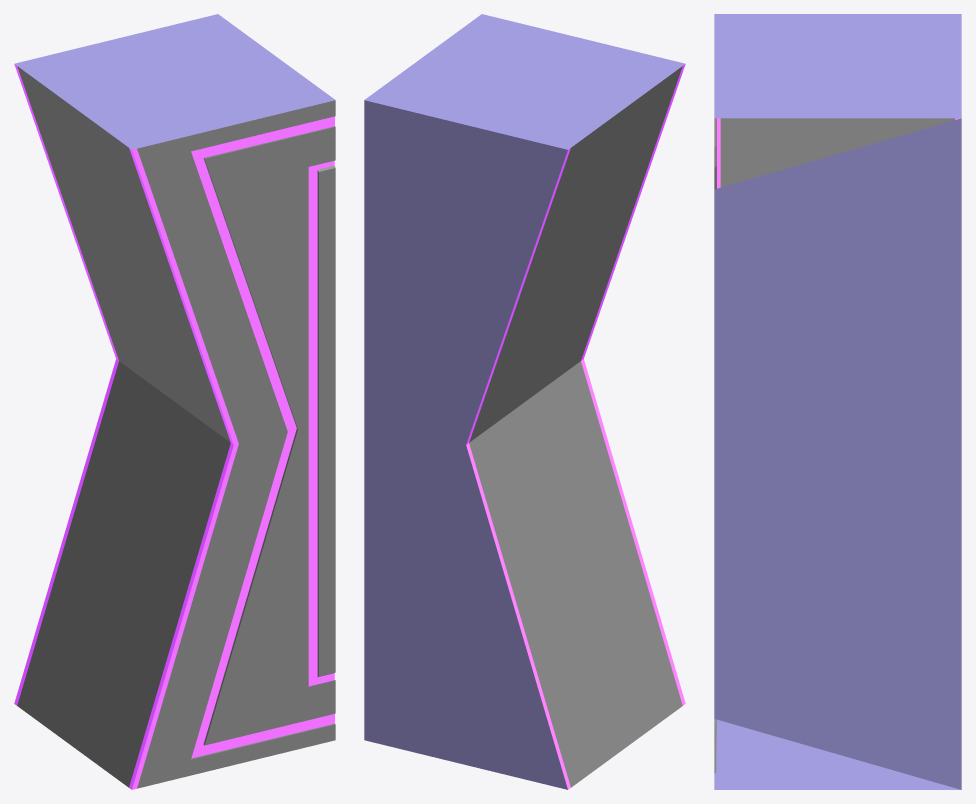
File: TunnelFlatEnd.FBX
3 views of the same model, side by side, from view 1: azimuth 30°, elevation 25°; view 2: azimuth 150°, elevation 25°; view 3: azimuth 270°, elevation 25° (orthographic). The views are drawn at different scales.
Visible parts, largest first — view 1: TunnelFlatEnd; view 2: TunnelFlatEnd; view 3: TunnelFlatEnd.
Boxes of the visible parts, bbox=[...] form: TunnelFlatEnd: bbox=[14, 14, 335, 789]; TunnelFlatEnd: bbox=[364, 14, 685, 789]; TunnelFlatEnd: bbox=[714, 14, 961, 789].
Bounding box in the file's own units: 100 × 100 × 300.
